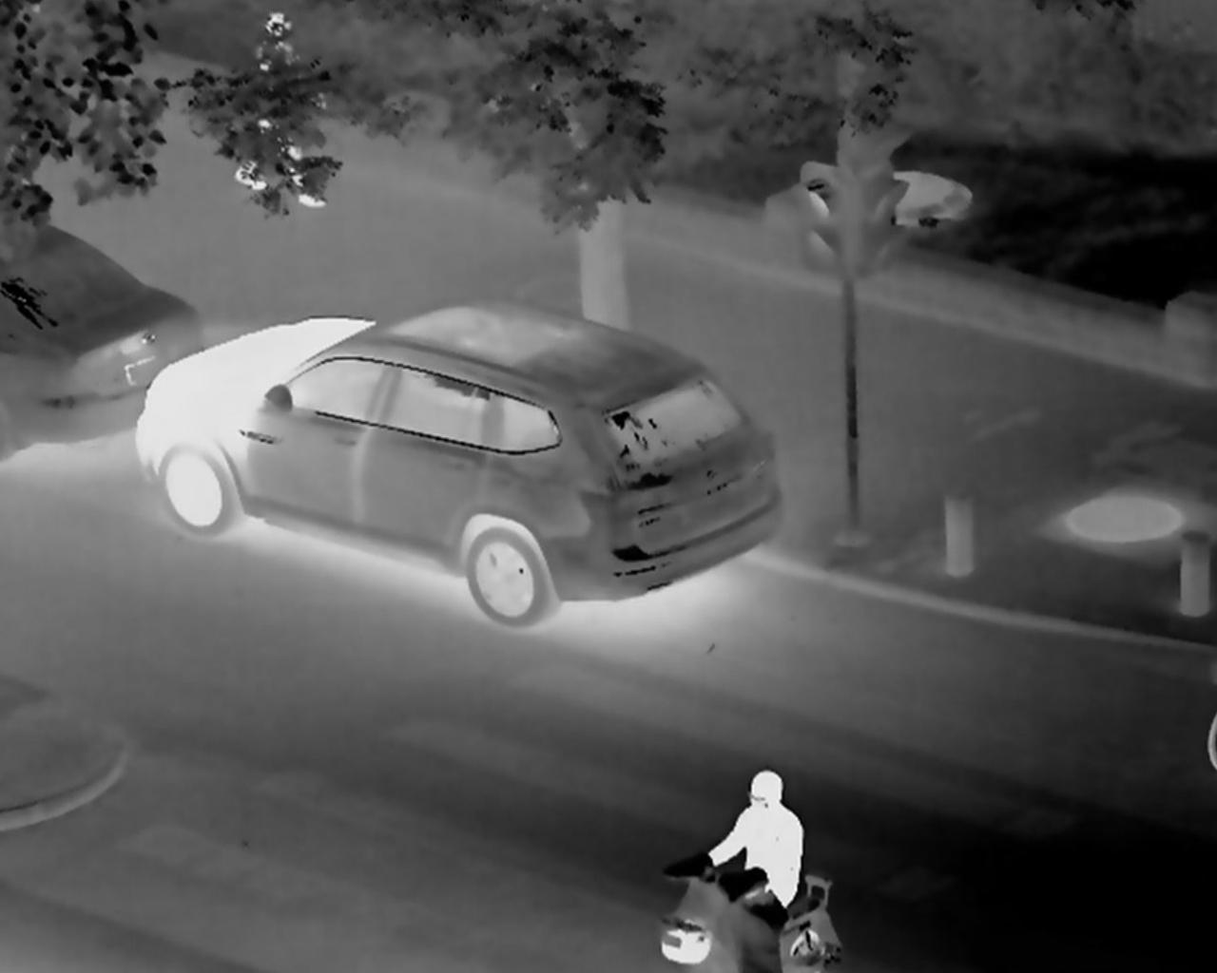person: (720, 757, 842, 934)
